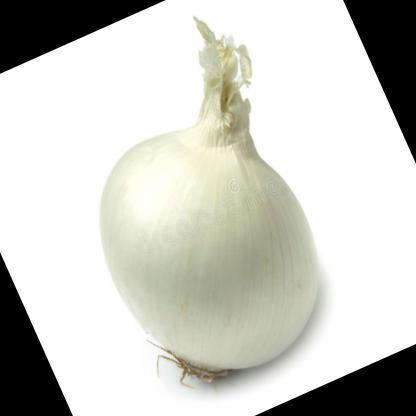onion: (16, 0, 390, 415)
